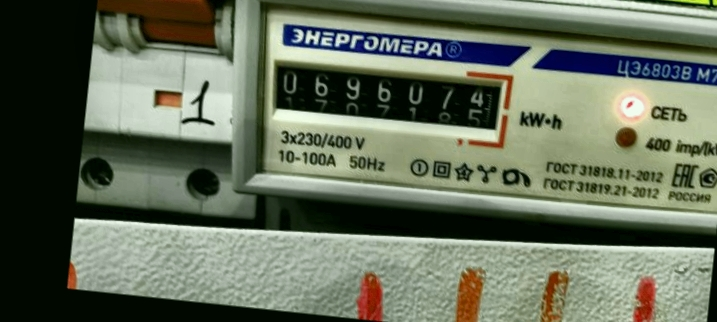0: (405, 78, 425, 106), (279, 68, 300, 94)
4: (467, 83, 486, 107)
5: (465, 106, 483, 128)
6: (373, 75, 394, 103), (311, 70, 331, 97)
7: (437, 82, 456, 110)
9: (342, 72, 361, 100)
screen: (257, 46, 517, 152)
